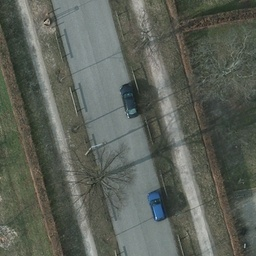car: (120, 83, 138, 117), (149, 188, 165, 222)
